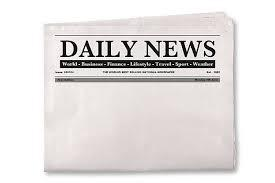Printing industry: (30, 13, 255, 183)
